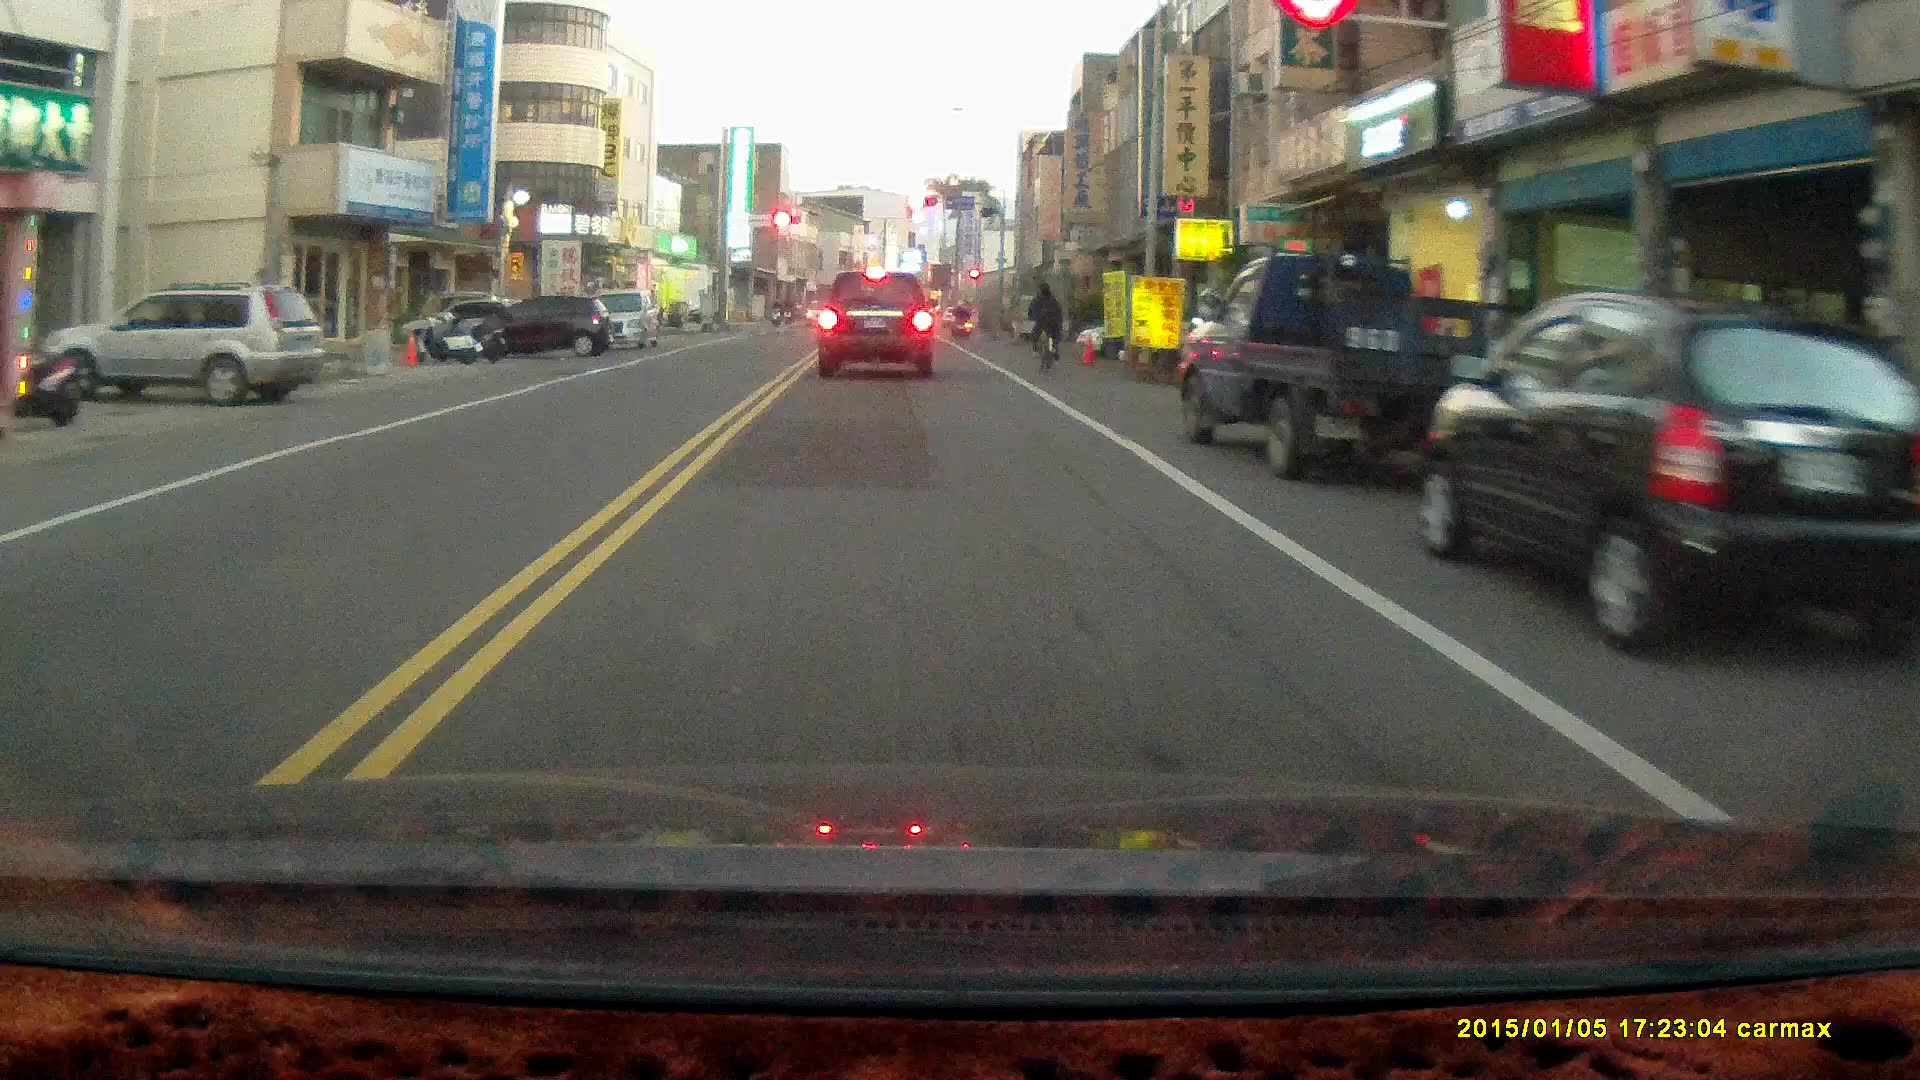rider: (1025, 273, 1066, 374)
vehicle: (1424, 289, 1913, 657), (1176, 245, 1536, 469), (43, 273, 325, 410), (817, 264, 937, 379), (473, 293, 623, 359), (568, 283, 665, 354)
